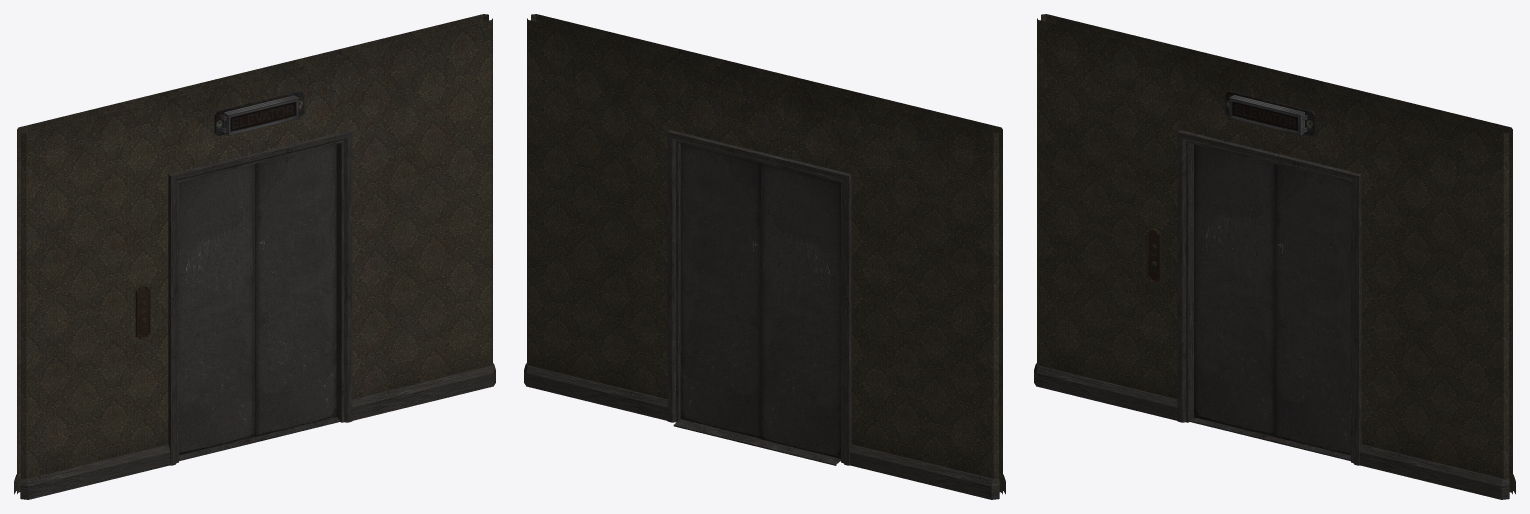
File: elevator_doorway_2_1.obj
The picture shows the model from 3 angles, left to right: view 1: azimuth 30°, elevation 25°; view 2: azimuth 150°, elevation 25°; view 3: azimuth 330°, elevation 25°; orthographic projection.
Visible parts, largest first — view 1: elevator_doorway_2_1, elevator_door_5_a, elevator_door_5_b; view 2: elevator_doorway_2_1, elevator_door_5_a, elevator_door_5_b; view 3: elevator_doorway_2_1, elevator_door_5_b, elevator_door_5_a.
Part boxes in pixels (x1,y1,x2,y2): elevator_doorway_2_1: [14, 14, 495, 499]; elevator_door_5_a: [255, 144, 336, 436]; elevator_door_5_b: [179, 164, 254, 455]; elevator_doorway_2_1: [524, 14, 1005, 499]; elevator_door_5_a: [680, 143, 760, 438]; elevator_door_5_b: [761, 163, 840, 461]; elevator_doorway_2_1: [1034, 14, 1515, 499]; elevator_door_5_b: [1194, 144, 1274, 436]; elevator_door_5_a: [1274, 164, 1350, 455].
Bounding box in the file's own units: 4.09 × 3 × 0.29.
